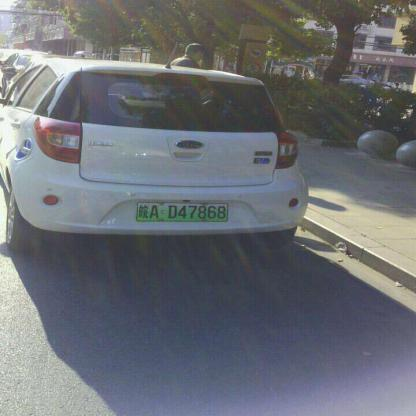lp: (138, 203, 227, 221)
